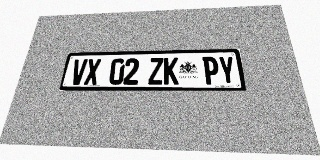0: (108, 58, 125, 85)
2: (123, 58, 139, 85)
K: (163, 57, 179, 85)
P: (202, 57, 220, 85)
V: (70, 59, 88, 85)
X: (84, 59, 101, 85)
Y: (218, 56, 237, 84)
Z: (148, 58, 163, 85)
